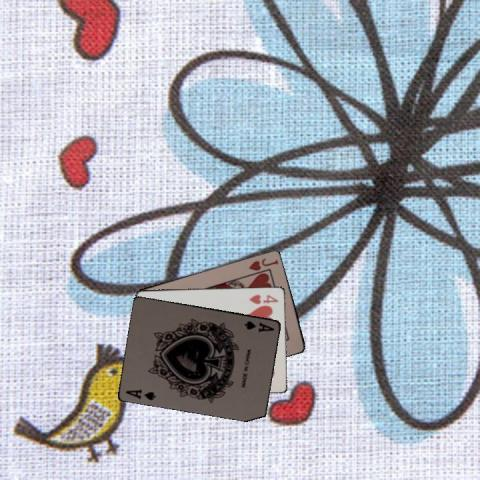4h: (246, 291, 280, 304)
As: (241, 317, 276, 334), (123, 386, 157, 401)
Jh: (246, 255, 279, 272)
